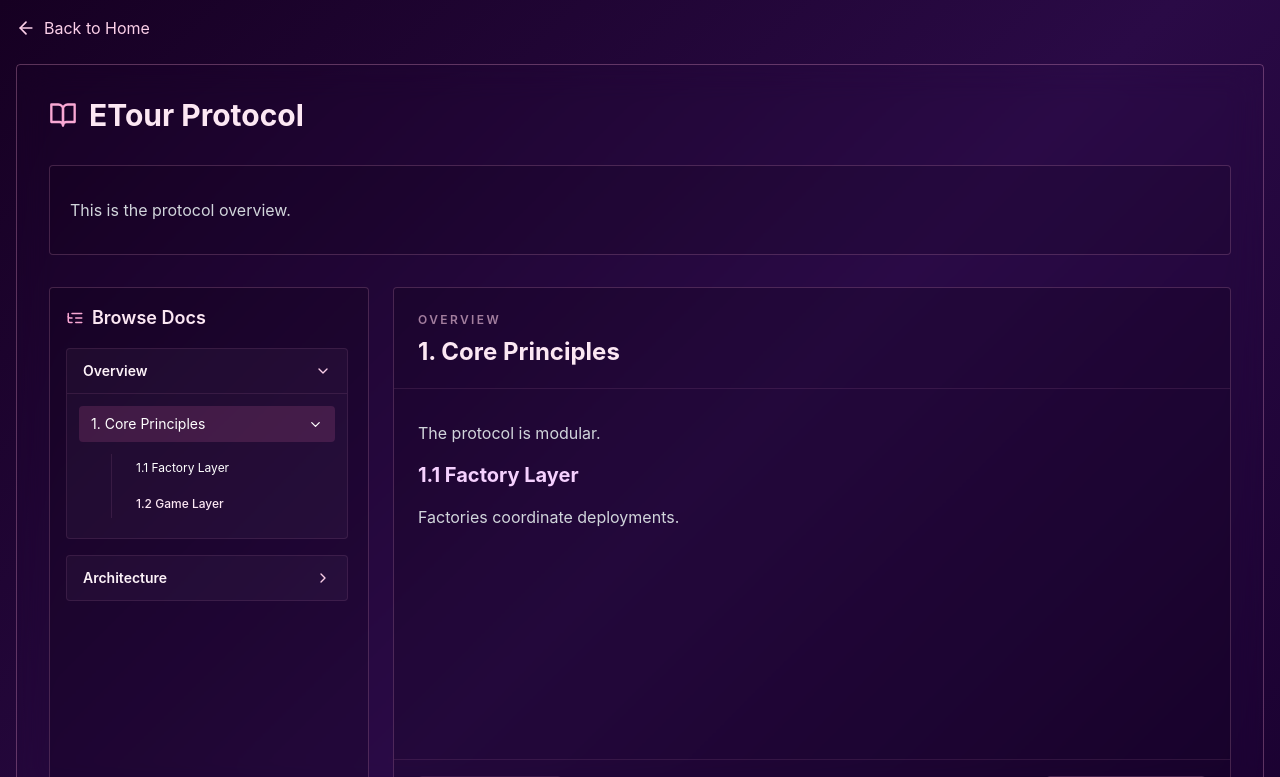
Test: Docs › renders docs in a grouped sidebar and pages the content by subsection tabs
The width and height of the screenshot is (1280, 777).
Expected: the heading "ETour Protocol" is shown, [89,97,304,133]
Expected: the heading "Browse Docs" is shown, [92,304,206,332]
What coordinates should you click on to do the following:
click the button "1. Core Principles"
I would click on:
 (207, 424)
Its box is [79,406,335,442].
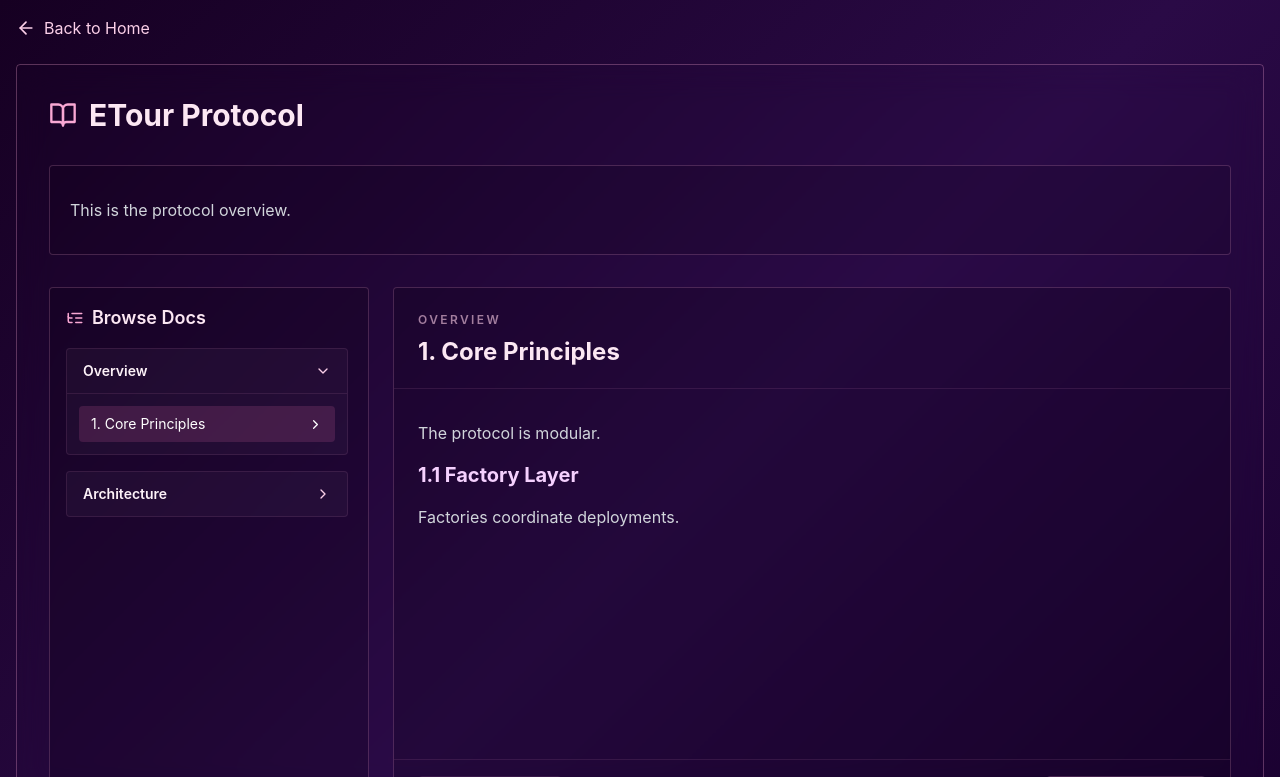
What coordinates should you click on to do the following:
click the button "1. Core Principles"
I would click on:
 (207, 424)
Its box is [79,406,335,442].
(page scrolled)
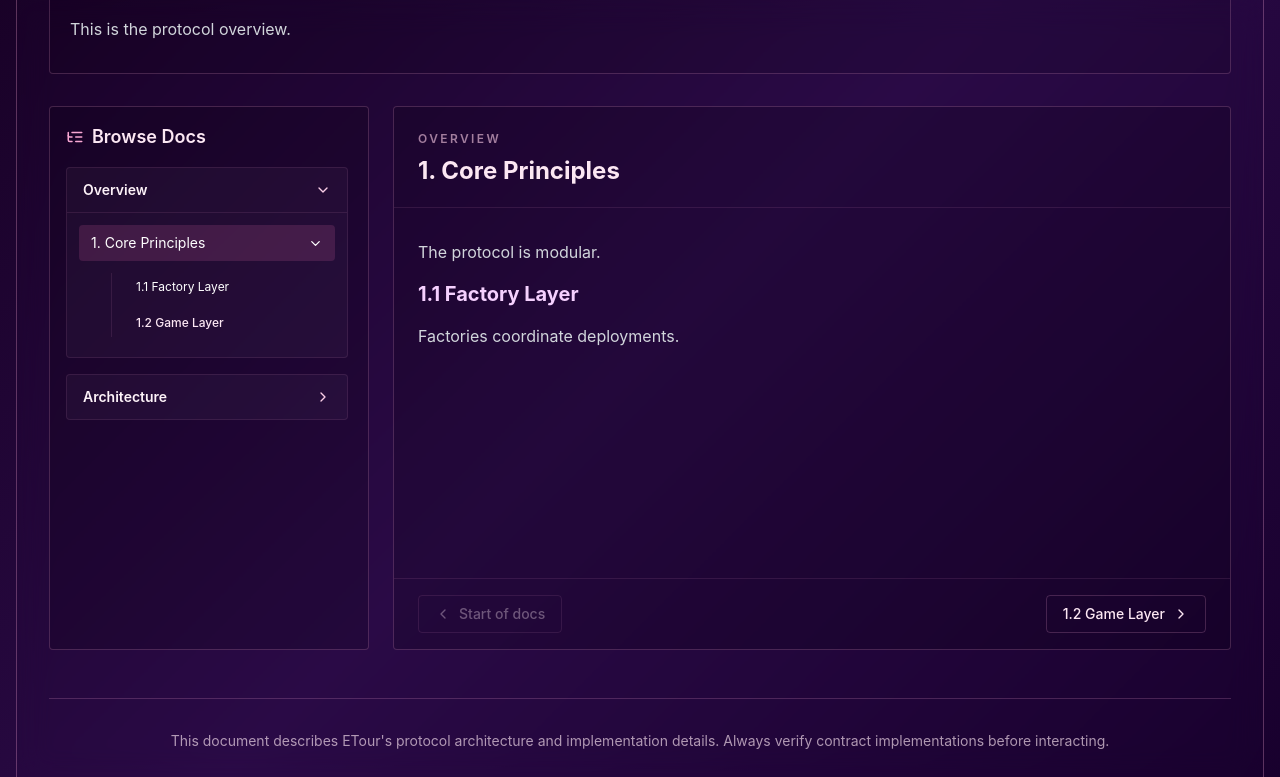
Expected: the button "1.1 Factory Layer" is shown, [128,273,323,301]
What coordinates should you click on to do the following:
click the button named "Next tab"
I would click on:
 (1126, 614)
Its box is [1046,595,1206,633].
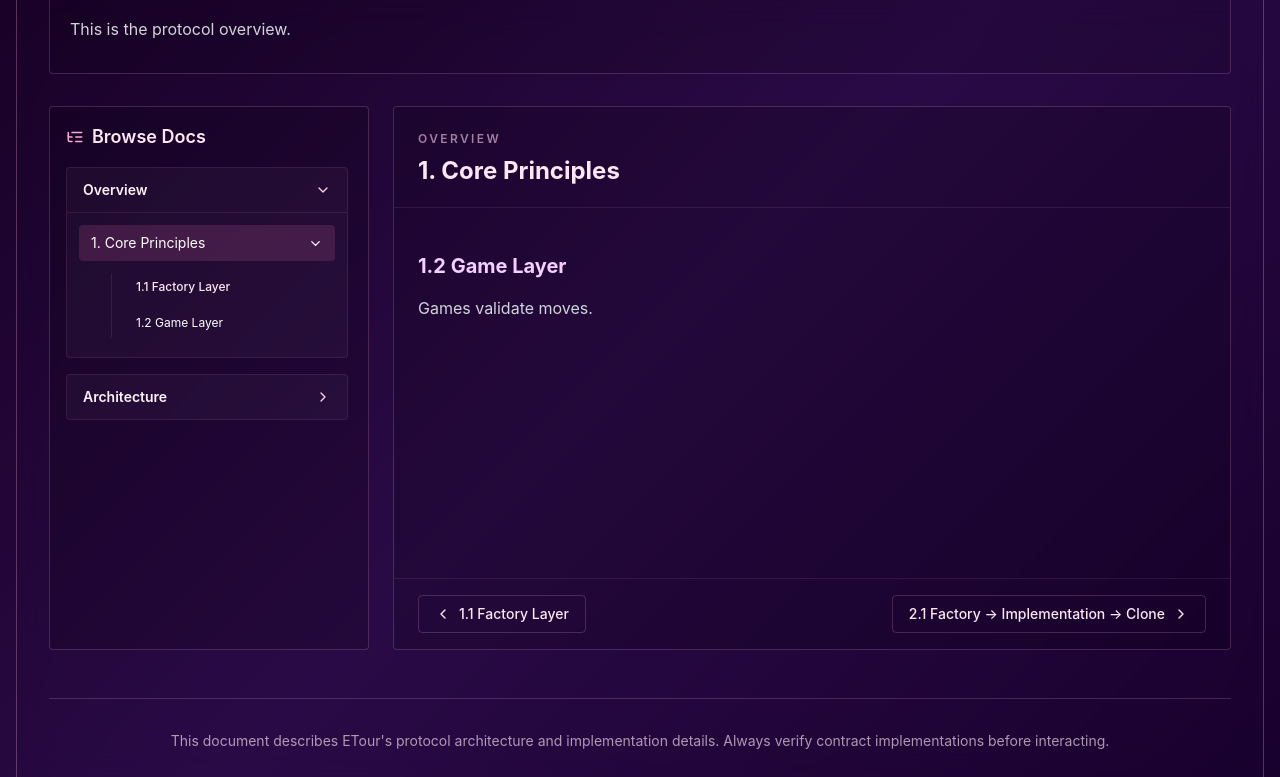
Expected: the heading "1.2 Game Layer" is shown, [418,254,566,278]
Expected: the button named "Previous tab" reads "1.1 Factory Layer", [418,595,586,633]
Expected: the button named "Next tab" reads "2.1 Factory -> Implementation -> Clone"
What coordinates should you click on to do the following:
click the button named "Next tab"
I would click on:
 (1049, 614)
Its box is [892,595,1206,633].
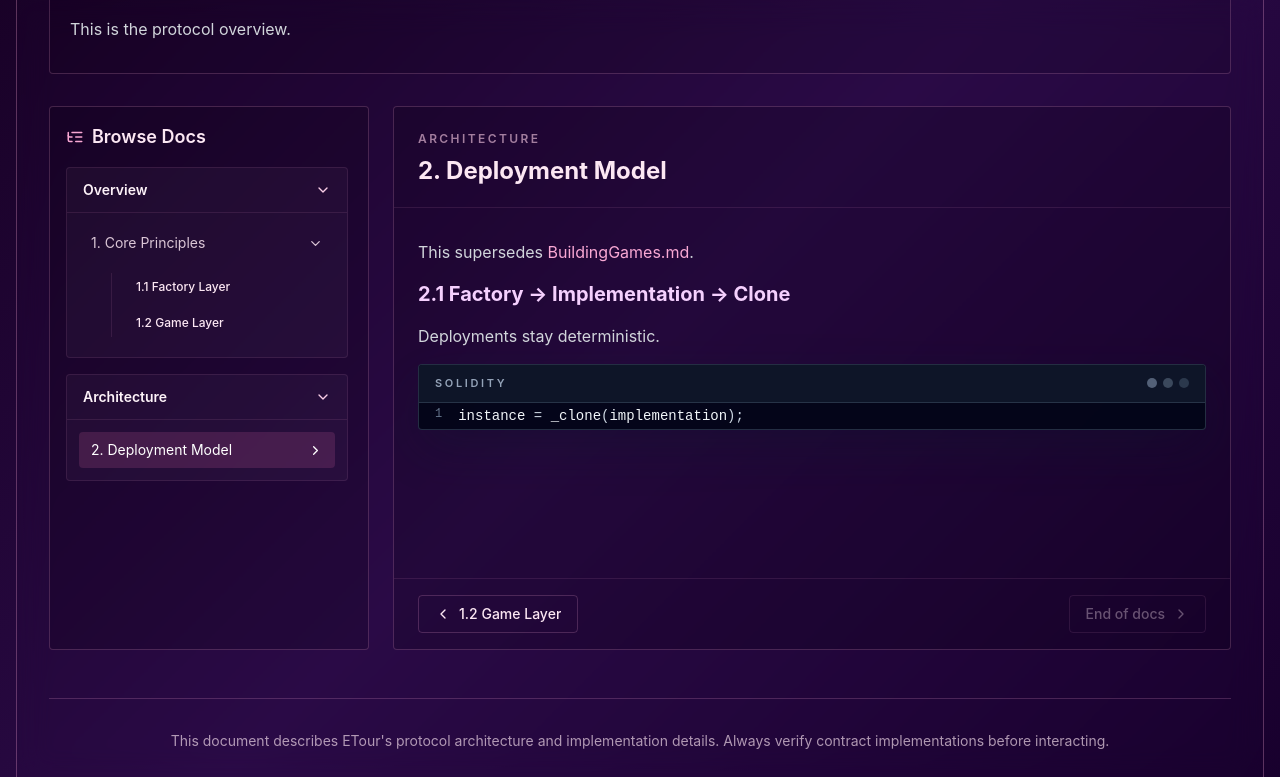
Expected: the heading "2. Deployment Model" is shown, [418,156,667,185]
What coordinates should you click on to do the following:
click the button "2. Deployment Model"
I would click on:
 (207, 450)
Its box is [79,432,335,468].
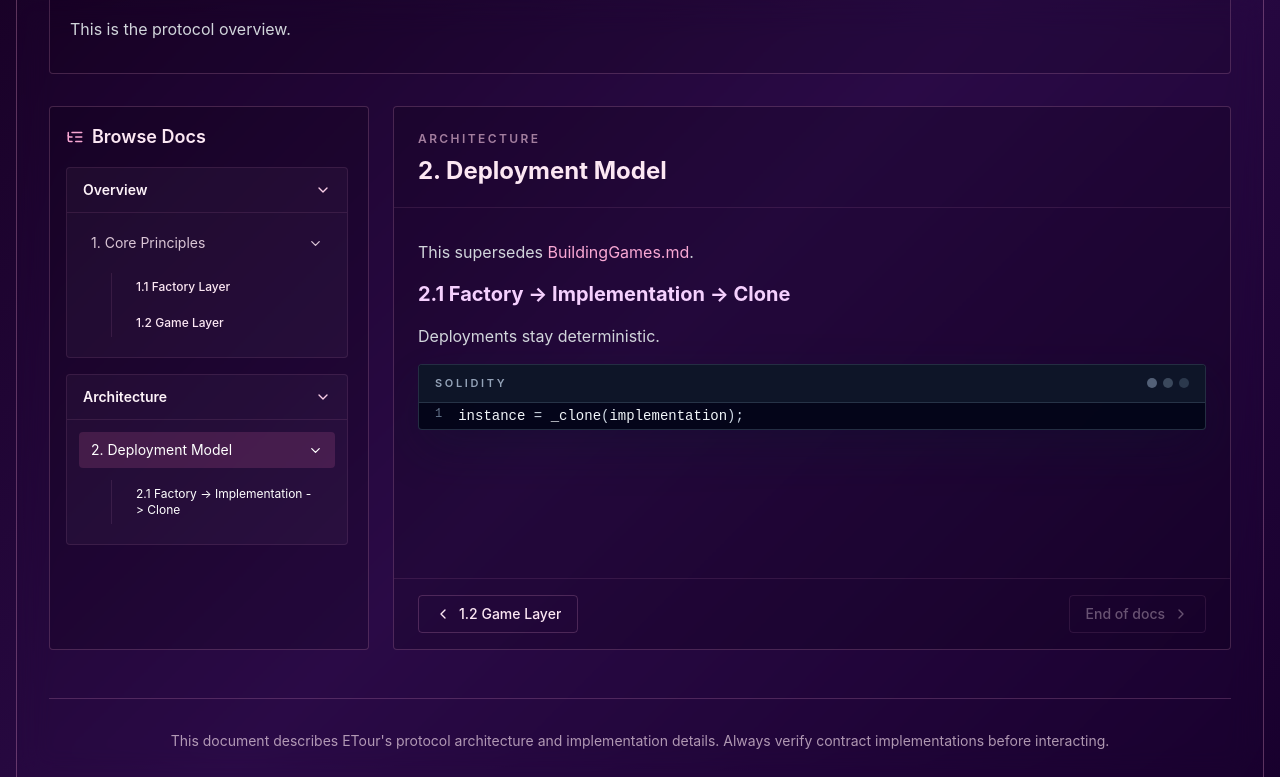
Expected: the button named "Previous tab" reads "1.2 Game Layer", [418,595,578,633]
Expected: the button named "Next tab" is disabled, [1068,595,1206,633]
Expected: the button "2.1 Factory -> Implementation -> Clone" is shown, [128,480,323,524]
